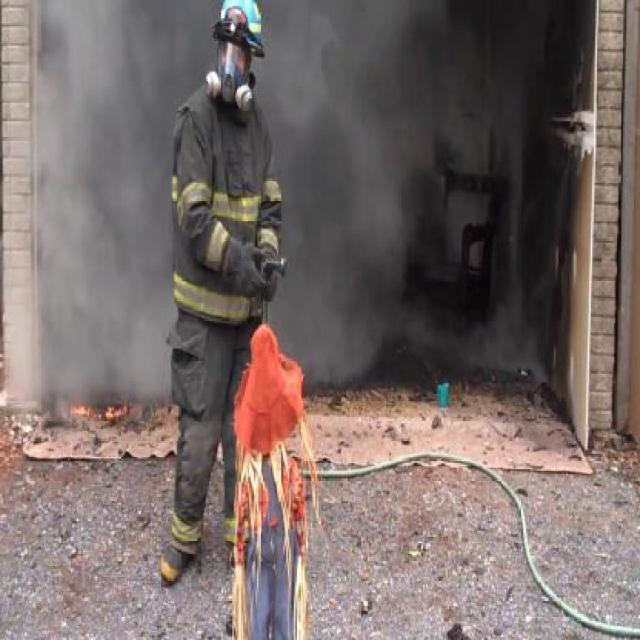smoke: (33, 19, 550, 381)
